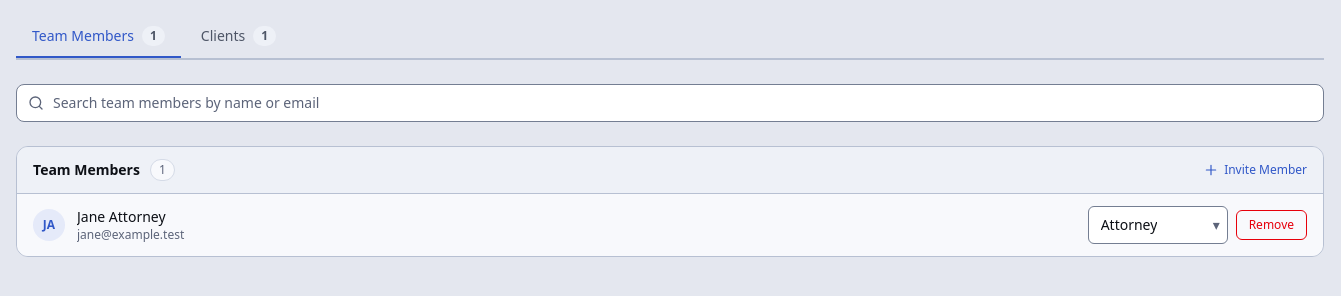
Test case: loaded content › shows the real members and, on the clients tab, the real associated clients
Check: the text "Jane Attorney" is shown, box [77,207,166,226]
Check: the text "jane@example.test" is shown, box [77,226,184,243]
Click the button "Clients 1" at (238, 37), box [185,16,292,58]
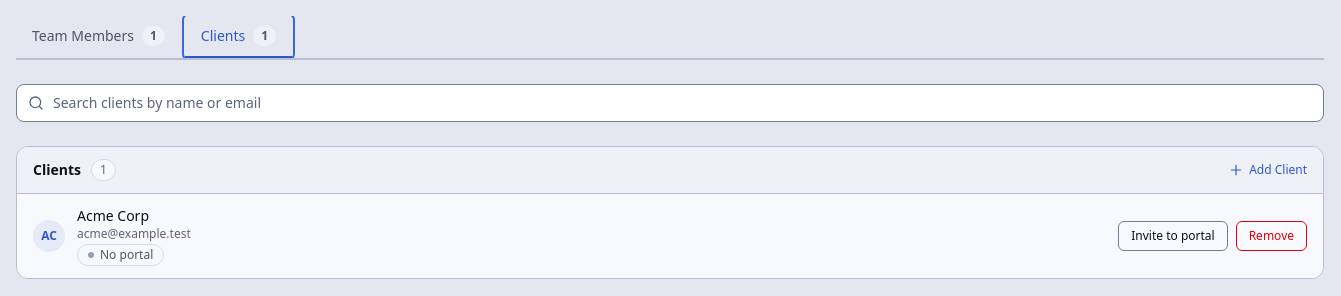
Check: the text "Acme Corp" is shown, box [77,206,149,225]
